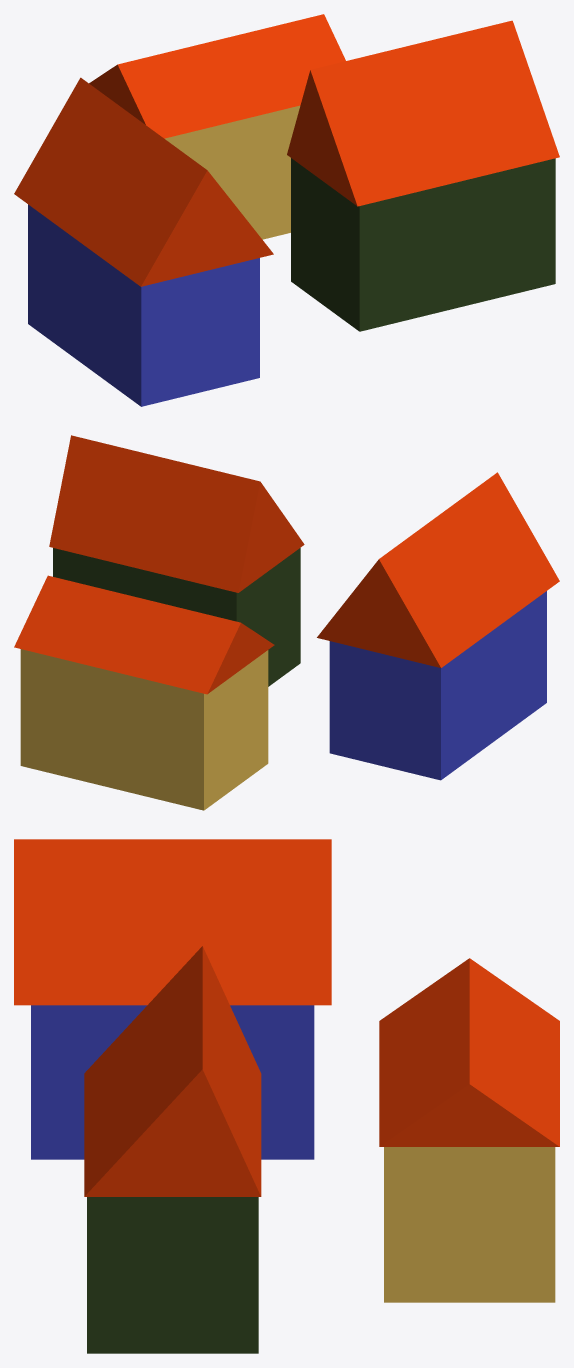
The model's file is town.gltf.
3 renders of one model, top to bottom at view 1: azimuth 30°, elevation 25°; view 2: azimuth 150°, elevation 25°; view 3: azimuth 270°, elevation 25°, orthographic. The views are drawn at different scales.
Visible parts, largest first — view 1: Cube.002, Cube.001, Cube.003; view 2: Cube.001, Cube.003, Cube.002; view 3: Cube.001, Cube.002, Cube.003.
Part boxes in pixels (x1,y1,x2,y2): Cube.002: [287, 20, 559, 331]; Cube.001: [14, 77, 273, 406]; Cube.003: [89, 14, 345, 239]; Cube.001: [317, 472, 559, 780]; Cube.003: [14, 575, 274, 810]; Cube.002: [49, 435, 304, 686]; Cube.001: [14, 839, 331, 1159]; Cube.002: [84, 946, 261, 1353]; Cube.003: [379, 958, 559, 1302].
Size of the model in its own units: 1.54 by 0.752 by 1.3.
